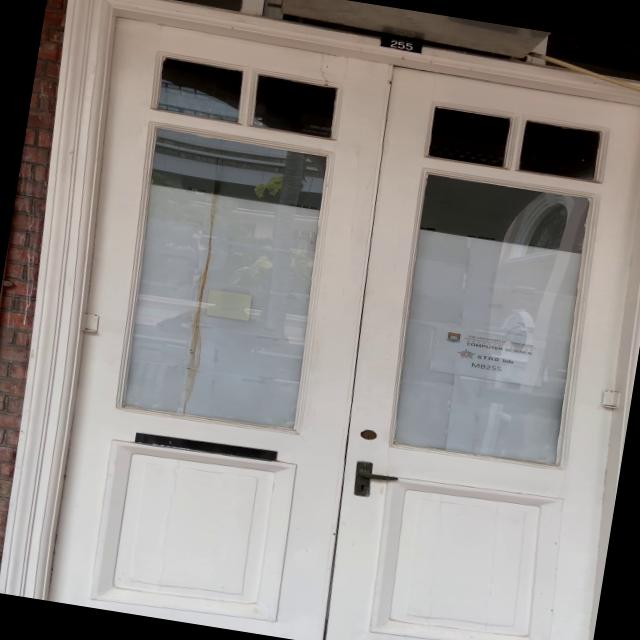room255: (379, 35, 429, 58)
